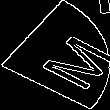M_NW: (9, 22, 101, 88)
